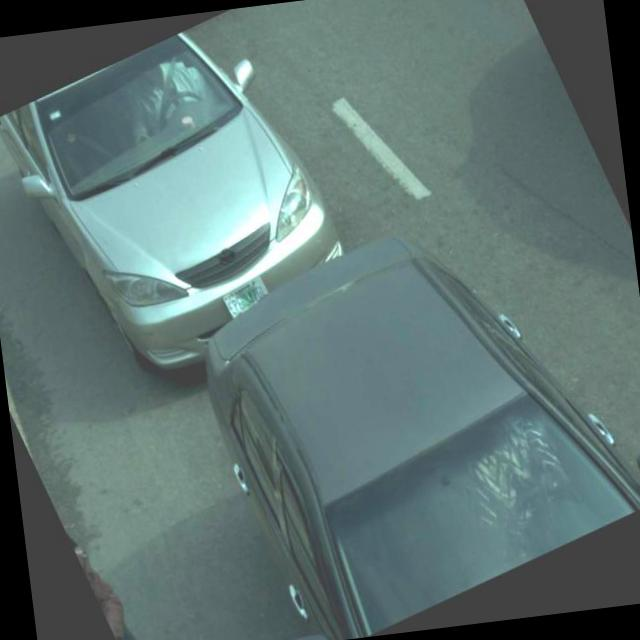person_with_seatbelt: (124, 42, 216, 153)
